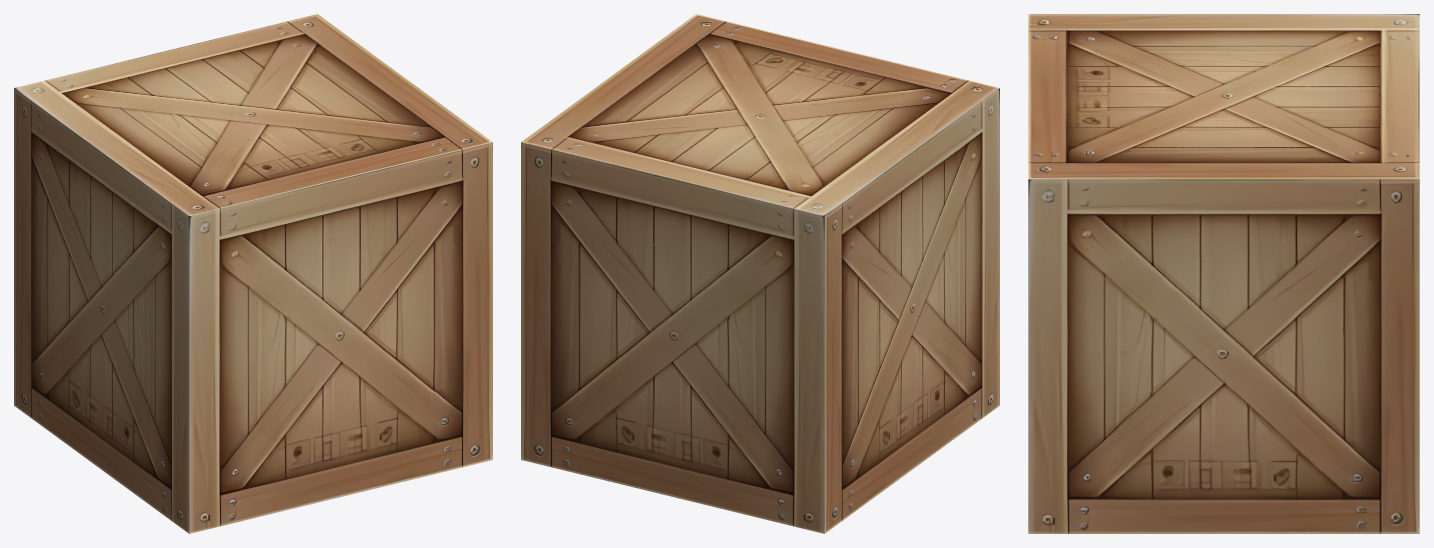
The picture shows the model from 3 angles, left to right: view 1: azimuth 30°, elevation 25°; view 2: azimuth 150°, elevation 25°; view 3: azimuth 270°, elevation 25°; orthographic projection. The views are drawn at different scales.
Visible parts, largest first — view 1: Cube, Cube_cell.011, Cube_cell.062, Cube_cell.064, Cube_cell.023, Cube_cell.069, Cube_cell.013, Cube_cell.018, Cube_cell.005, Cube_cell.055, Cube_cell.065, Cube_cell.049 (+27 smaller); view 2: Cube, Cube_cell.052, Cube_cell.005, Cube_cell.039, Cube_cell.007, Cube_cell.008, Cube_cell.037, Cube_cell.018, Cube_cell.041, Cube_cell.055, Cube_cell.030, Cube_cell.057 (+22 smaller); view 3: Cube, Cube_cell.021, Cube_cell.045, Cube_cell.066, Cube_cell.027, Cube_cell.046, Cube_cell, Cube_cell.014, Cube_cell.054, Cube_cell.013, Cube_cell.056, Cube_cell.016 (+16 smaller).
Boxes of the visible parts, x1,y1,x2,y2 form: Cube: (14,14,492,533); Cube_cell.011: (276,295,442,441); Cube_cell.062: (167,303,293,462); Cube_cell.064: (300,206,452,351); Cube_cell.023: (187,204,299,347); Cube_cell.069: (294,178,435,292); Cube_cell.013: (441,150,492,305); Cube_cell.018: (36,108,142,239); Cube_cell.005: (14,240,103,470); Cube_cell.055: (90,133,183,238); Cube_cell.065: (135,226,209,370); Cube_cell.049: (14,74,121,148); Cube: (521,14,999,521); Cube_cell.052: (521,242,674,439); Cube_cell.005: (751,351,913,492); Cube_cell.039: (700,449,856,533); Cube_cell.007: (538,428,706,504); Cube_cell.008: (838,310,927,466); Cube_cell.037: (708,411,879,508); Cube_cell.018: (811,148,906,328); Cube_cell.041: (521,279,603,431); Cube_cell.055: (847,105,977,190); Cube_cell.030: (577,243,733,449); Cube_cell.057: (654,234,749,417); Cube: (1028,14,1419,533); Cube_cell.021: (1036,250,1292,515); Cube_cell.045: (1142,278,1341,496); Cube_cell.066: (1269,136,1419,293); Cube_cell.027: (1028,258,1199,476); Cube_cell.046: (1055,179,1218,259); Cube_cell: (1244,332,1356,504); Cube_cell.014: (1086,491,1322,533); Cube_cell.054: (1300,418,1419,533); Cube_cell.013: (1028,188,1106,351); Cube_cell.056: (1045,155,1271,255); Cube_cell.016: (1292,158,1419,236).
Size of the model in its own units: 200 by 200 by 200.
Materials: 1 (1 with a texture image).
